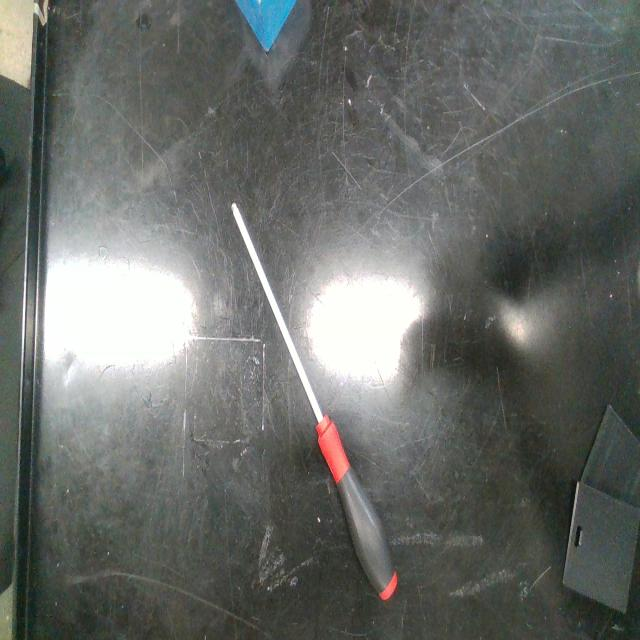Screwdriver: (231, 202, 398, 599)
